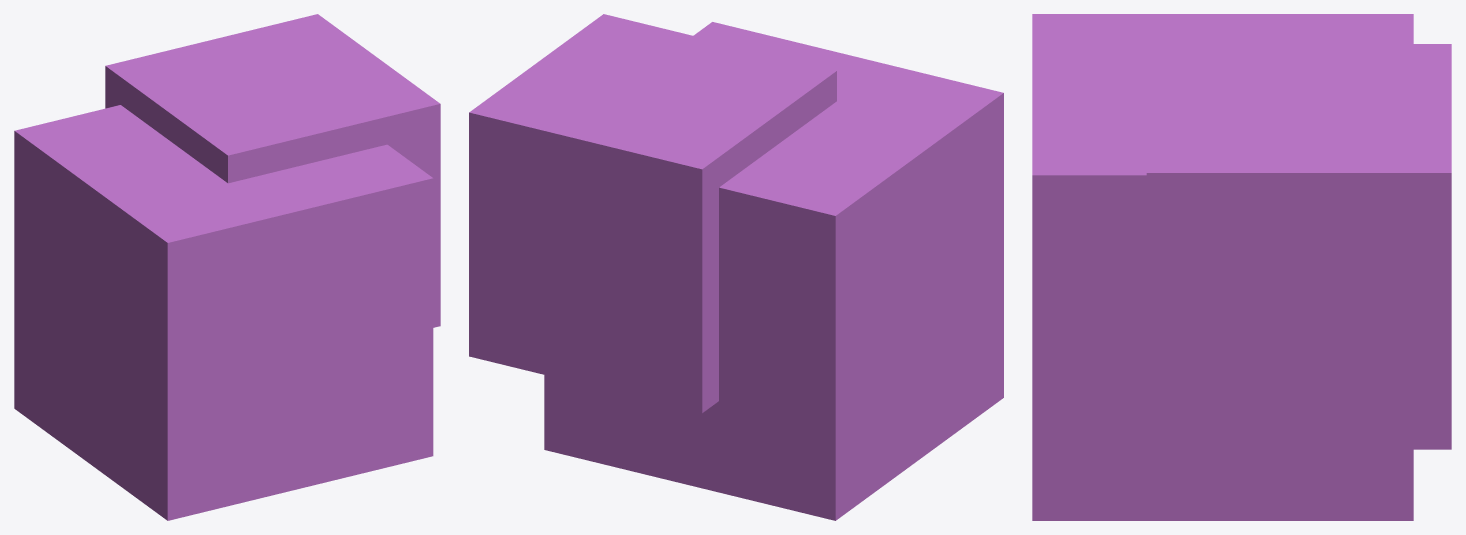
Rendered from mesh_non_manifold.glb.
3 views of the same model, side by side, from view 1: azimuth 30°, elevation 25°; view 2: azimuth 150°, elevation 25°; view 3: azimuth 270°, elevation 25° (orthographic). The views are drawn at different scales.
Parts seen in each view (by area): view 1: non_manifold; view 2: non_manifold; view 3: non_manifold.
Part boxes in pixels (<box>): non_manifold: <box>14,14,440,520</box>; non_manifold: <box>469,14,1003,520</box>; non_manifold: <box>1032,14,1451,520</box>.
Size of the model in its own units: 1.2 by 1.1 by 1.1.
